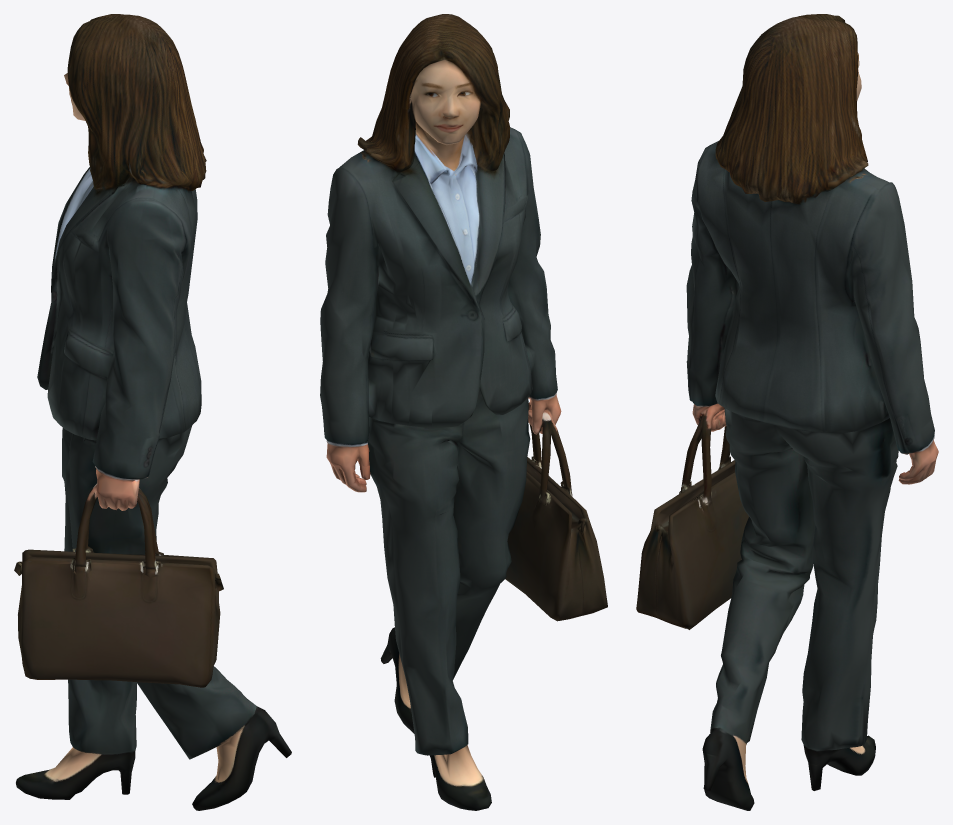
The model's file is person-business-w02.glb.
The picture shows the model from 3 angles, left to right: view 1: azimuth 30°, elevation 25°; view 2: azimuth 150°, elevation 25°; view 3: azimuth 270°, elevation 25°; orthographic projection. The views are drawn at different scales.
Parts seen in each view (by area): view 1: JPGV01_W02_L10k; view 2: JPGV01_W02_L10k; view 3: JPGV01_W02_L10k.
Boxes of the visible parts, x1=… form: JPGV01_W02_L10k: x1=14, y1=14, x2=291, y2=810; JPGV01_W02_L10k: x1=320, y1=14, x2=607, y2=810; JPGV01_W02_L10k: x1=636, y1=14, x2=938, y2=810.
Bounding box in the file's own units: 0.5719 × 1.7 × 0.604.
1 material, 1 textured.
